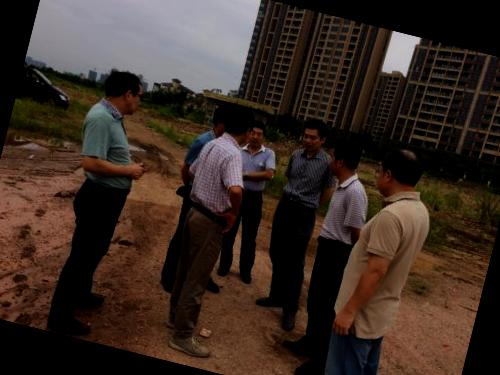no_helmet: (88, 59, 152, 121), (371, 140, 430, 206), (321, 130, 372, 188), (218, 102, 258, 152), (292, 113, 330, 156), (204, 96, 232, 142), (248, 118, 268, 148)
